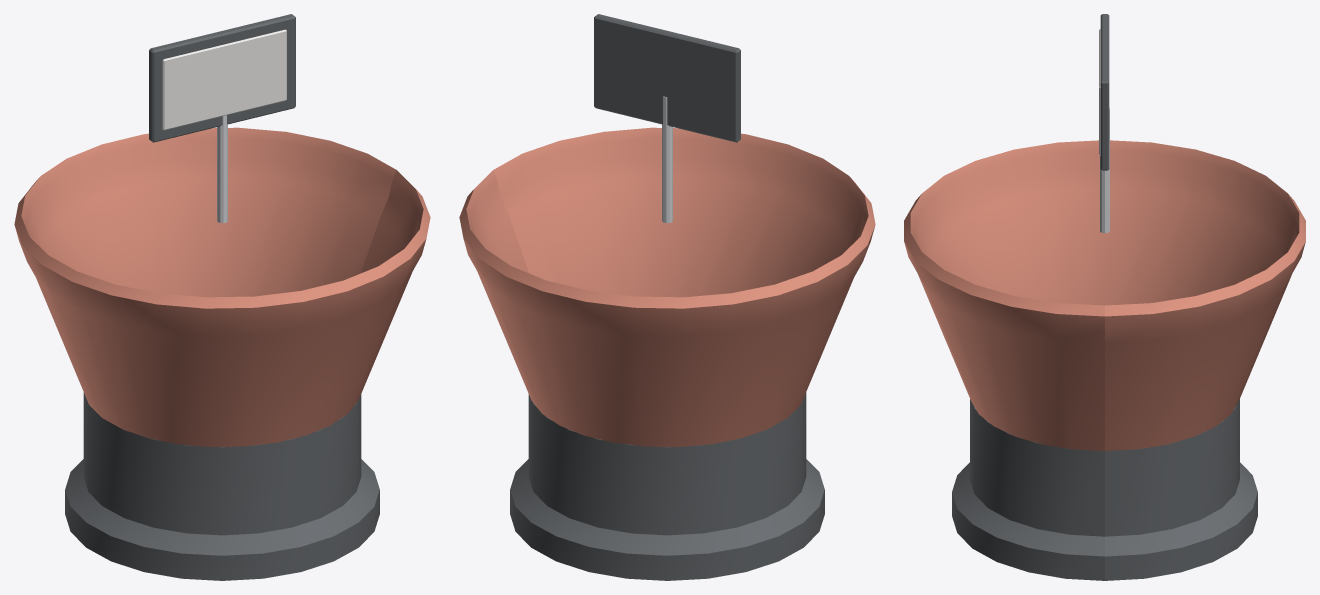
The model's file is SM_Retail_25239_PromoDumpBin.fbx.
3 views of the same model, side by side, from view 1: azimuth 30°, elevation 25°; view 2: azimuth 150°, elevation 25°; view 3: azimuth 270°, elevation 25° (orthographic). The views are drawn at different scales.
Visible parts, largest first — view 1: SM_Retail_25239_PromoDumpBin; view 2: SM_Retail_25239_PromoDumpBin; view 3: SM_Retail_25239_PromoDumpBin.
Part boxes in pixels (x1,y1,x2,y2): SM_Retail_25239_PromoDumpBin: (14,14,430,580); SM_Retail_25239_PromoDumpBin: (459,14,875,580); SM_Retail_25239_PromoDumpBin: (904,14,1305,580).
Bounding box in the file's own units: 90 × 89.34 × 115.
